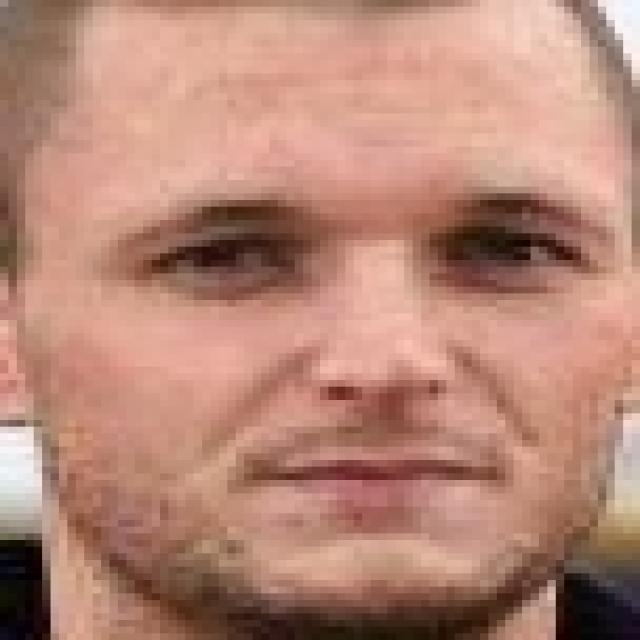0_rostro_limpio: (9, 0, 632, 627)
